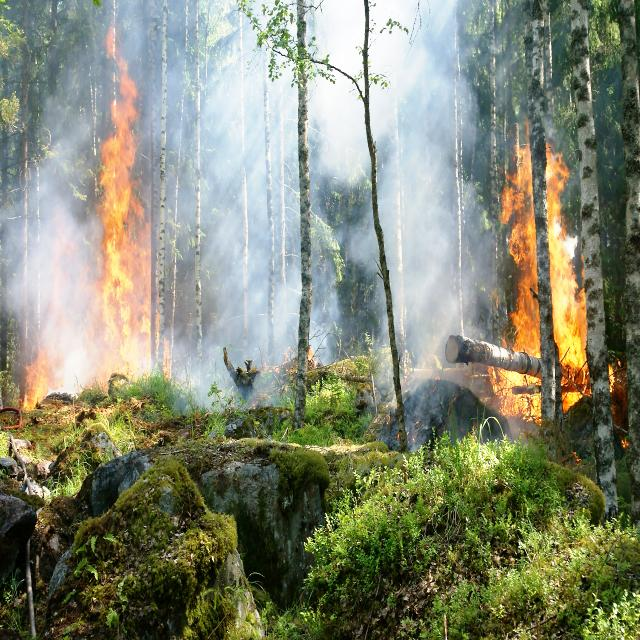api: (97, 71, 153, 382), (542, 158, 604, 398), (506, 152, 537, 357), (484, 367, 543, 424), (28, 360, 52, 409)
asap: (376, 6, 506, 345), (174, 59, 294, 373), (3, 88, 94, 352), (314, 1, 364, 342)
